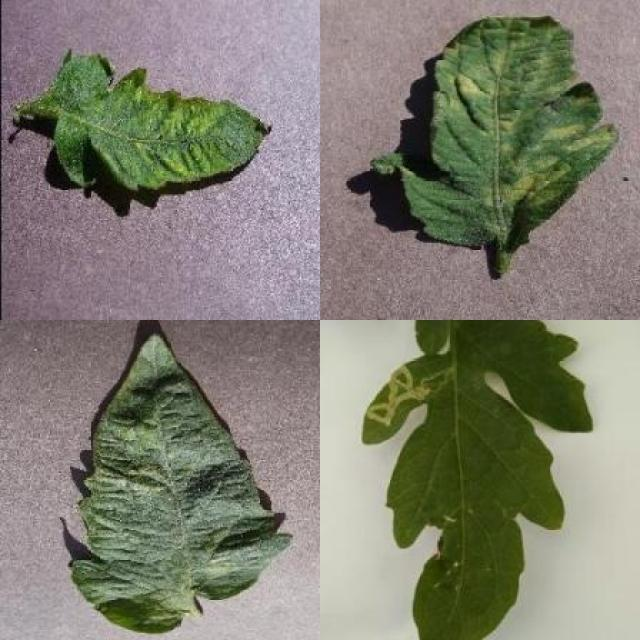Leaf Miner: (359, 320, 594, 639)
Leaf Mold: (371, 15, 618, 248)
Mosaic Virus: (49, 50, 274, 193)
Spider Mites: (70, 334, 293, 636)
